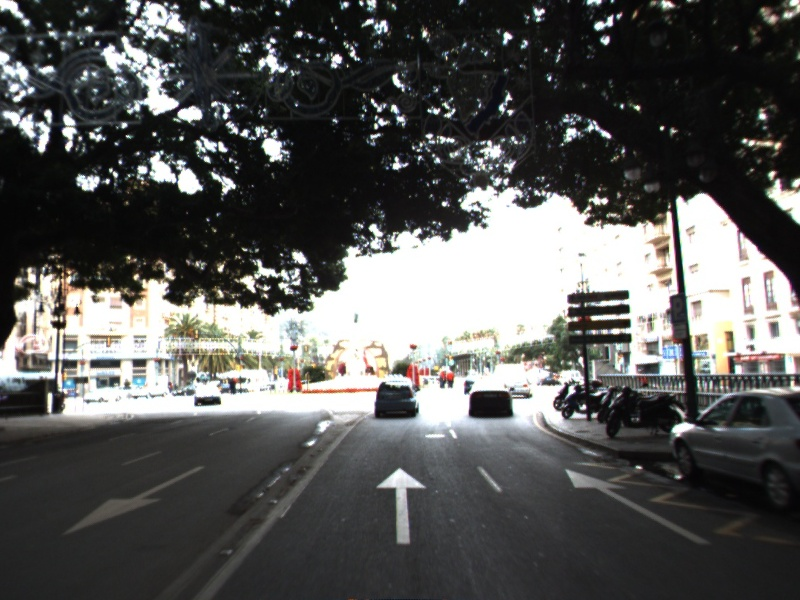STRAIGHT: (563, 467, 713, 546), (374, 465, 429, 546)
